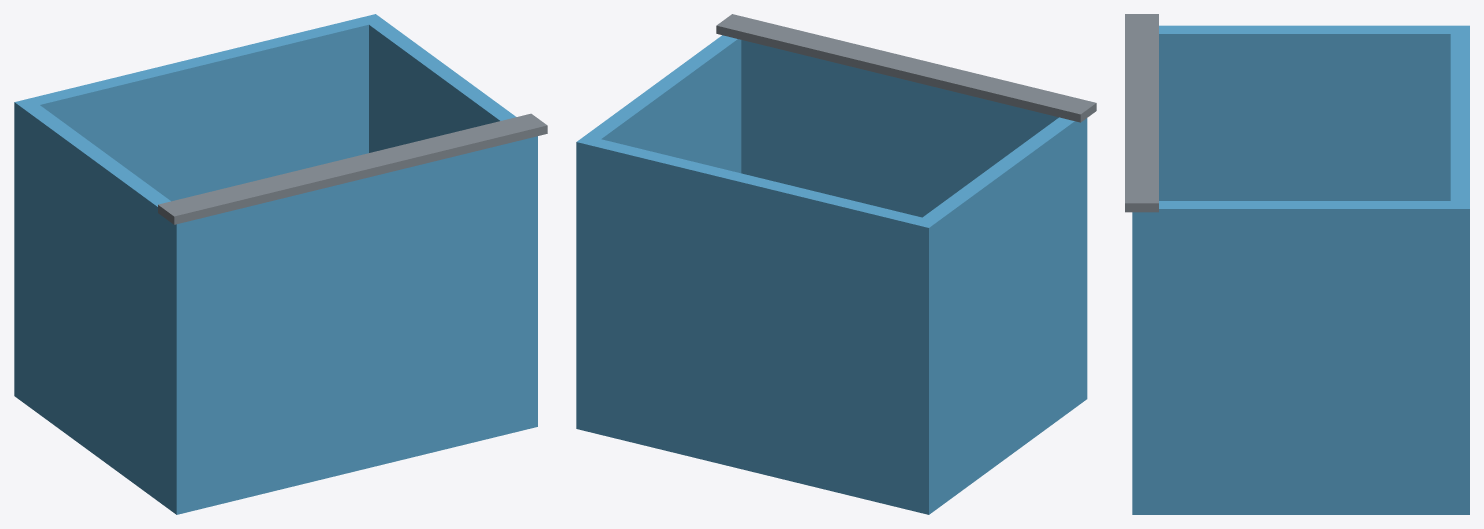
The model's file is contenedor_plastico.glb.
The picture shows the model from 3 angles, left to right: view 1: azimuth 30°, elevation 25°; view 2: azimuth 150°, elevation 25°; view 3: azimuth 270°, elevation 25°; orthographic projection. The views are drawn at different scales.
Parts seen in each view (by area): view 1: pared_frontal, pared_izq, pared_trasera, pared_der, borde_superior, base; view 2: pared_trasera, pared_izq, pared_frontal, pared_der, borde_superior, base; view 3: pared_der, pared_izq, pared_trasera, borde_superior, pared_frontal, base.
Boxes of the visible parts, <box> form: pared_frontal: <box>167,136,537,514</box>; pared_izq: <box>23,105,170,505</box>; pared_trasera: <box>14,14,384,401</box>; pared_der: <box>369,21,516,152</box>; borde_superior: <box>158,113,547,224</box>; base: <box>14,380,537,514</box>; pared_trasera: <box>576,135,937,514</box>; pared_izq: <box>922,117,1078,507</box>; pared_frontal: <box>741,40,1087,405</box>; pared_der: <box>586,35,741,173</box>; borde_superior: <box>716,14,1096,122</box>; base: <box>576,383,1087,514</box>; pared_der: <box>1151,201,1450,514</box>; pared_izq: <box>1159,25,1450,200</box>; pared_trasera: <box>1450,25,1469,514</box>; borde_superior: <box>1125,14,1158,212</box>; pared_frontal: <box>1132,212,1151,514</box>; base: <box>1132,497,1469,514</box>.
Size of the model in its own units: 0.93 by 0.72 by 0.715.
